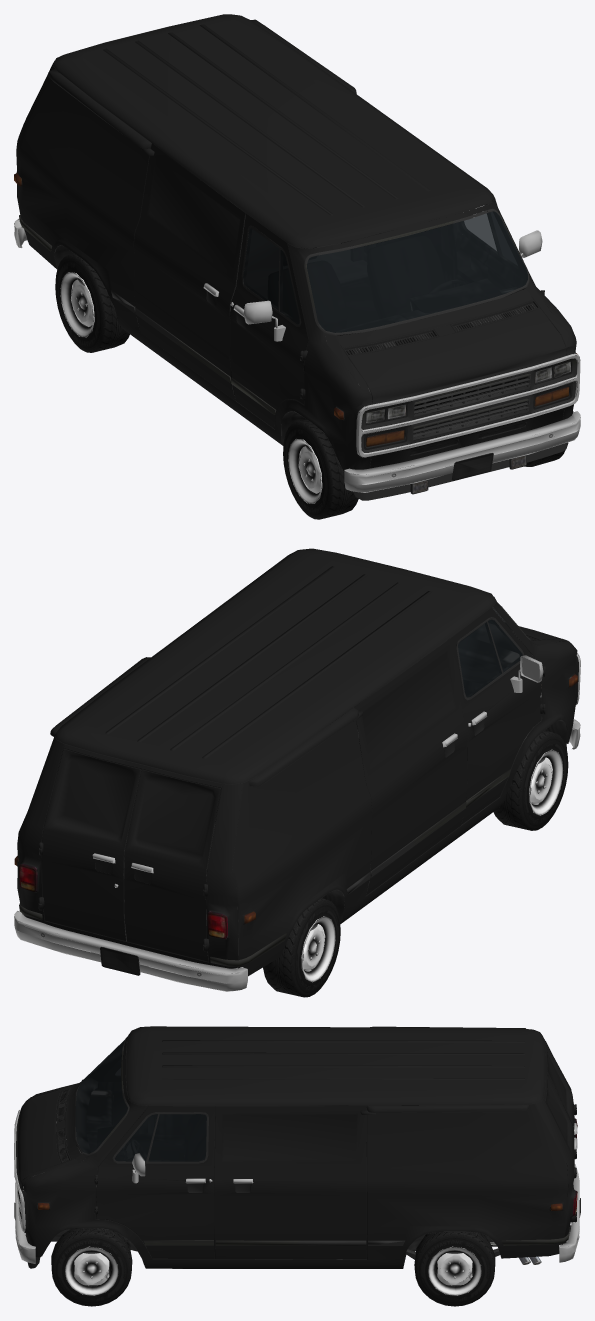
The model's file is van.glb.
3 views of the same model, one above another, from view 1: azimuth 30°, elevation 25°; view 2: azimuth 150°, elevation 25°; view 3: azimuth 270°, elevation 25° (orthographic). The views are drawn at different scales.
Visible parts, largest first — view 1: van; view 2: van; view 3: van.
Boxes of the visible parts, x1=… form: van: x1=14, y1=14, x2=580, y2=519; van: x1=14, y1=548, x2=580, y2=997; van: x1=14, y1=1026, x2=580, y2=1306.
Size of the model in its own units: 2.35 by 1.93 by 4.9.
6 materials, 5 textured.
